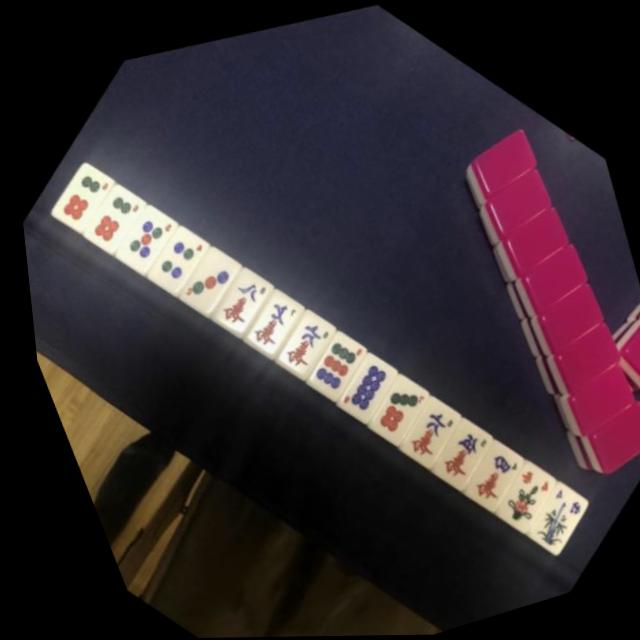bf4: (505, 463, 604, 553)
bs4: (473, 441, 571, 530)
sc4: (441, 423, 537, 511)
sc5: (409, 402, 505, 490)
sc6: (254, 294, 350, 382), (378, 381, 472, 467)
sc7: (221, 274, 316, 361)
sc8: (189, 253, 285, 341)
sd3: (157, 233, 252, 320)
sd4: (123, 211, 223, 301)
sd5: (92, 192, 191, 282)
sd6: (62, 174, 156, 260), (32, 152, 126, 238)
sd7: (345, 357, 444, 447)
sd8: (316, 337, 411, 423)
sd9: (283, 314, 381, 404)
